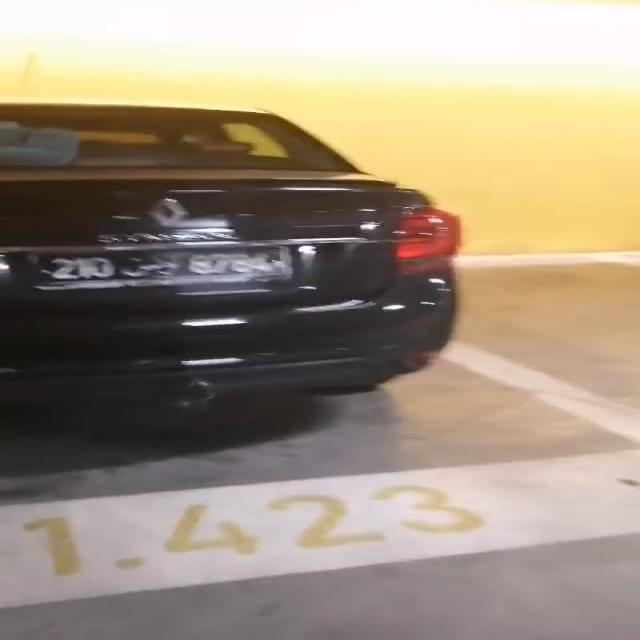licence plate: (35, 248, 285, 286)
